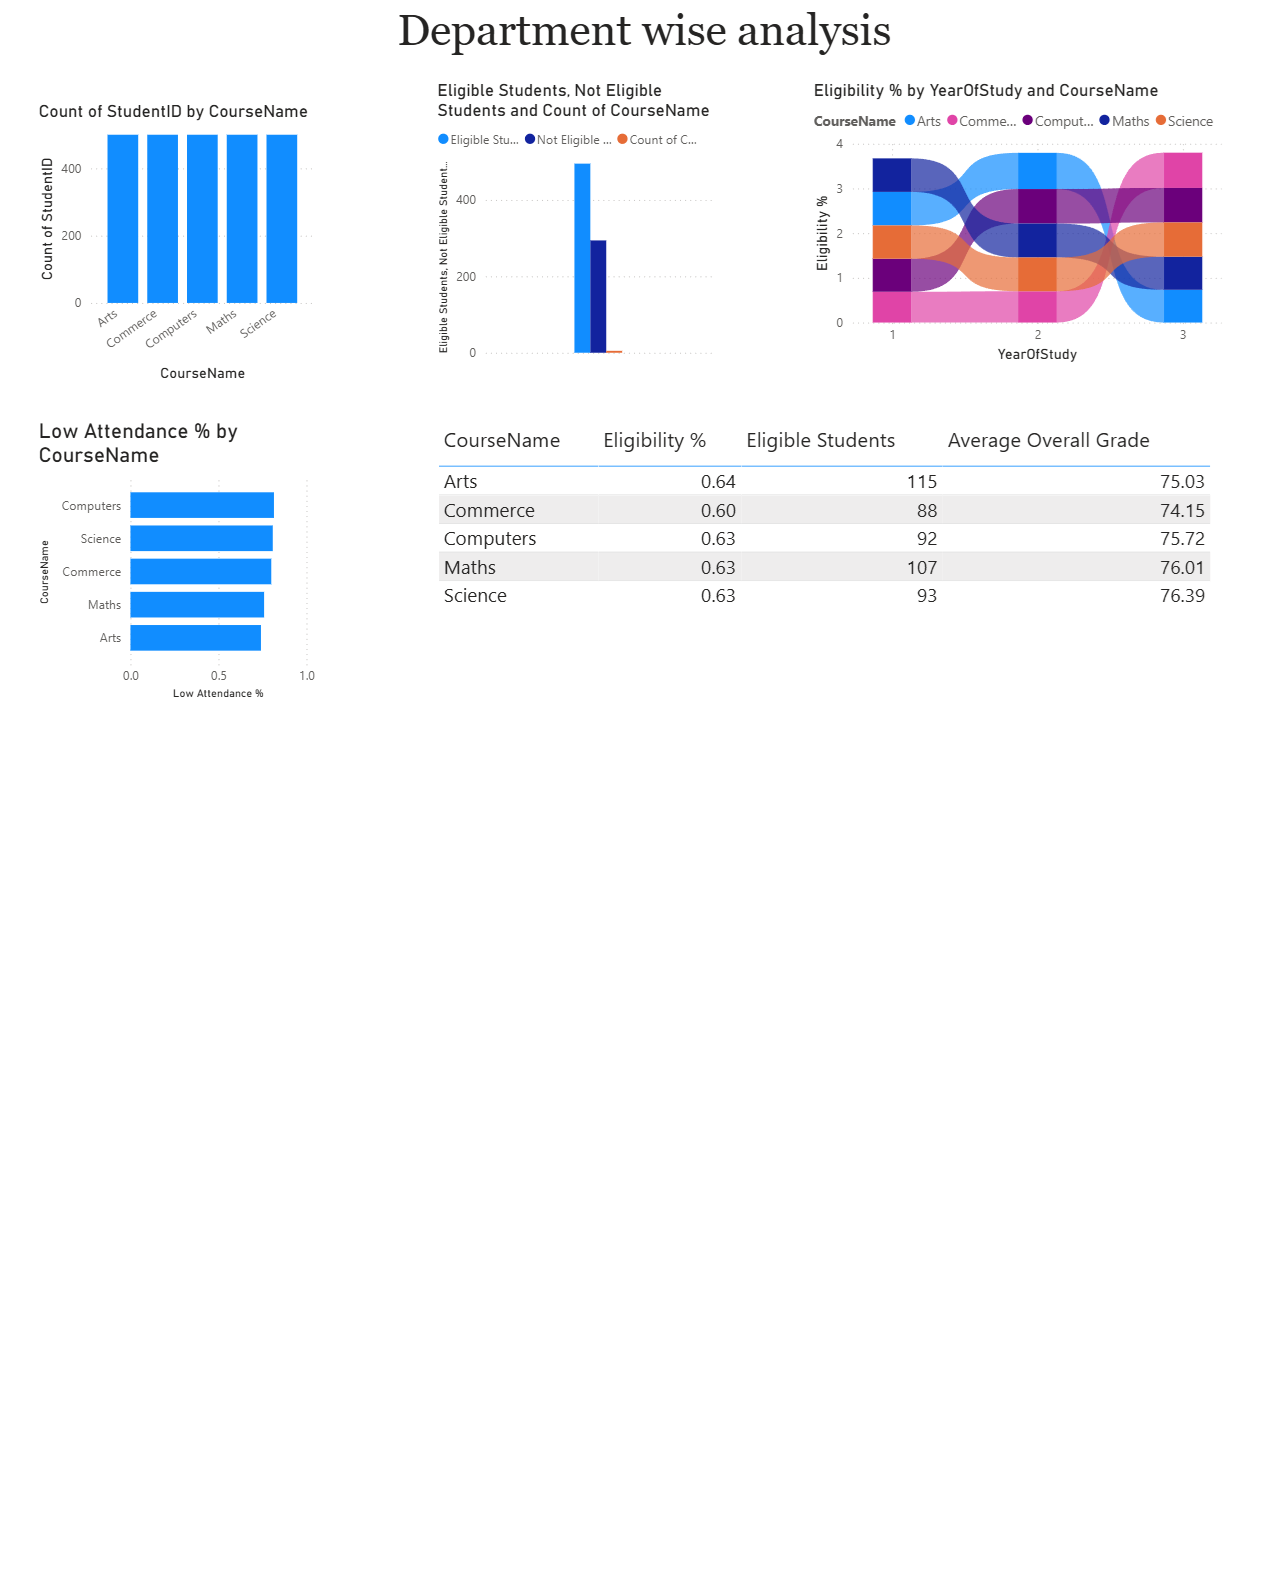

What the dashboard file says about the page in this screenshot:
{"tool":"powerbi","page":{"name":"Department","canvas":[1280,720],"ordinal":1},"visuals":[{"type":"clusteredColumnChart","fields":{"Category":["Dim_Courses.CourseName"],"Y":["CountNonNull(Dim_Students.StudentID)"]},"box":[42.6,112.5,279.6,279.6],"z":0},{"type":"clusteredColumnChart","fields":{"Y":["Measures1.Eligible Students","Measures1.Not Eligible Students","CountNonNull(Dim_Courses.CourseName)"]},"box":[433,92,279.6,281.3],"z":1000},{"type":"textbox","box":[0,13.6,1280.1,59.7],"z":2000},{"type":"barChart","fields":{"Category":["Dim_Courses.CourseName"],"Y":["Measures1.Low Attendance %"]},"box":[43,423,280,280],"z":3000},{"type":"tableEx","fields":{"Values":["Dim_Courses.CourseName","Measures1.Eligibility %","Measures1.Eligible Students","Measures1.Average Overall Grade"]},"box":[433,422.7,777.3,206.3],"z":4000},{"type":"ribbonChart","fields":{"Y":["Measures1.Eligibility %"],"Category":["Fact_Enrollments.YearOfStudy"],"Series":["Dim_Courses.CourseName"]},"box":[801.2,92,409.1,281.3],"z":5000}]}

Visuals, with their boxes on the page's 1280x720 design canvas (x1, y1, x2, y2). These are canvas units, not pixel positions in the 1265x1577 screenshot, which may show the page scaled, cropped or inside an application window:
clusteredColumnChart - Dim_Courses.CourseName x CountNonNull(Dim_Students.StudentID): [43,112,322,392]
clusteredColumnChart - Measures1.Eligible Students x Measures1.Not Eligible Students: [433,92,713,373]
textbox: [0,14,1280,73]
barChart - Dim_Courses.CourseName x Measures1.Low Attendance %: [43,423,323,703]
tableEx - Dim_Courses.CourseName x Measures1.Eligibility %: [433,423,1210,629]
ribbonChart - Measures1.Eligibility % x Fact_Enrollments.YearOfStudy: [801,92,1210,373]
